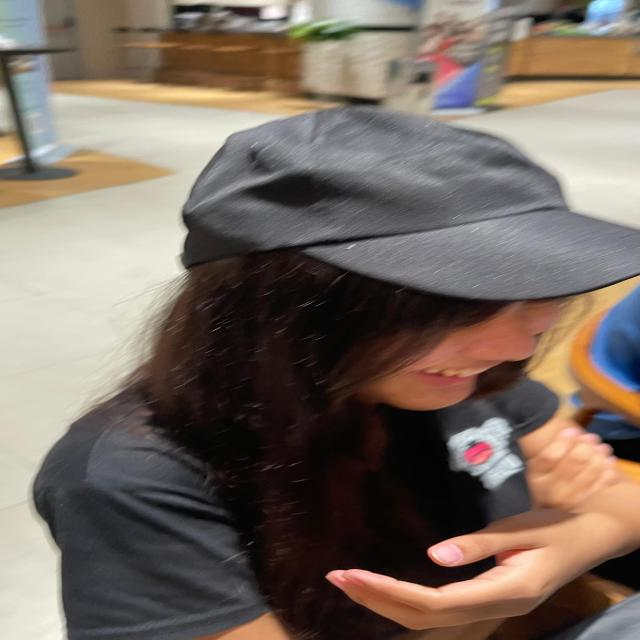3_gorra: (175, 104, 640, 302)
